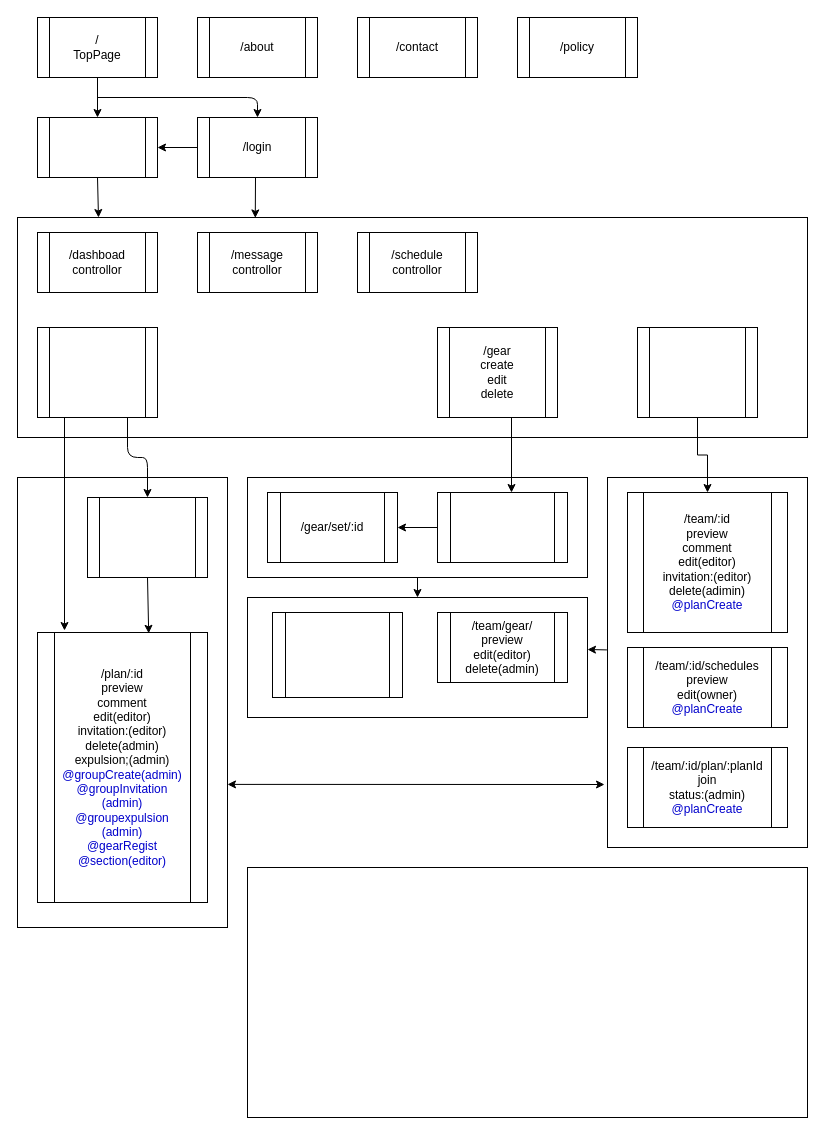
Image size: 825x1135. Some labels were removed from this diagram. The centre of each missing label's shape, as x and y in pixels:
"/gear/:id preview edit delete" belongs at point (502, 527).
"/plan create edit(editor) delete(admin)" belongs at point (97, 372).
"/plan/create @gearRegist @isTeam @section" belongs at point (147, 537).
"/register" belongs at point (97, 147).
"/team create edit delete(admin)" belongs at point (697, 372).
"/team/gear/:set preview edit(owner) delete (owner & admin)" belongs at point (337, 655).
